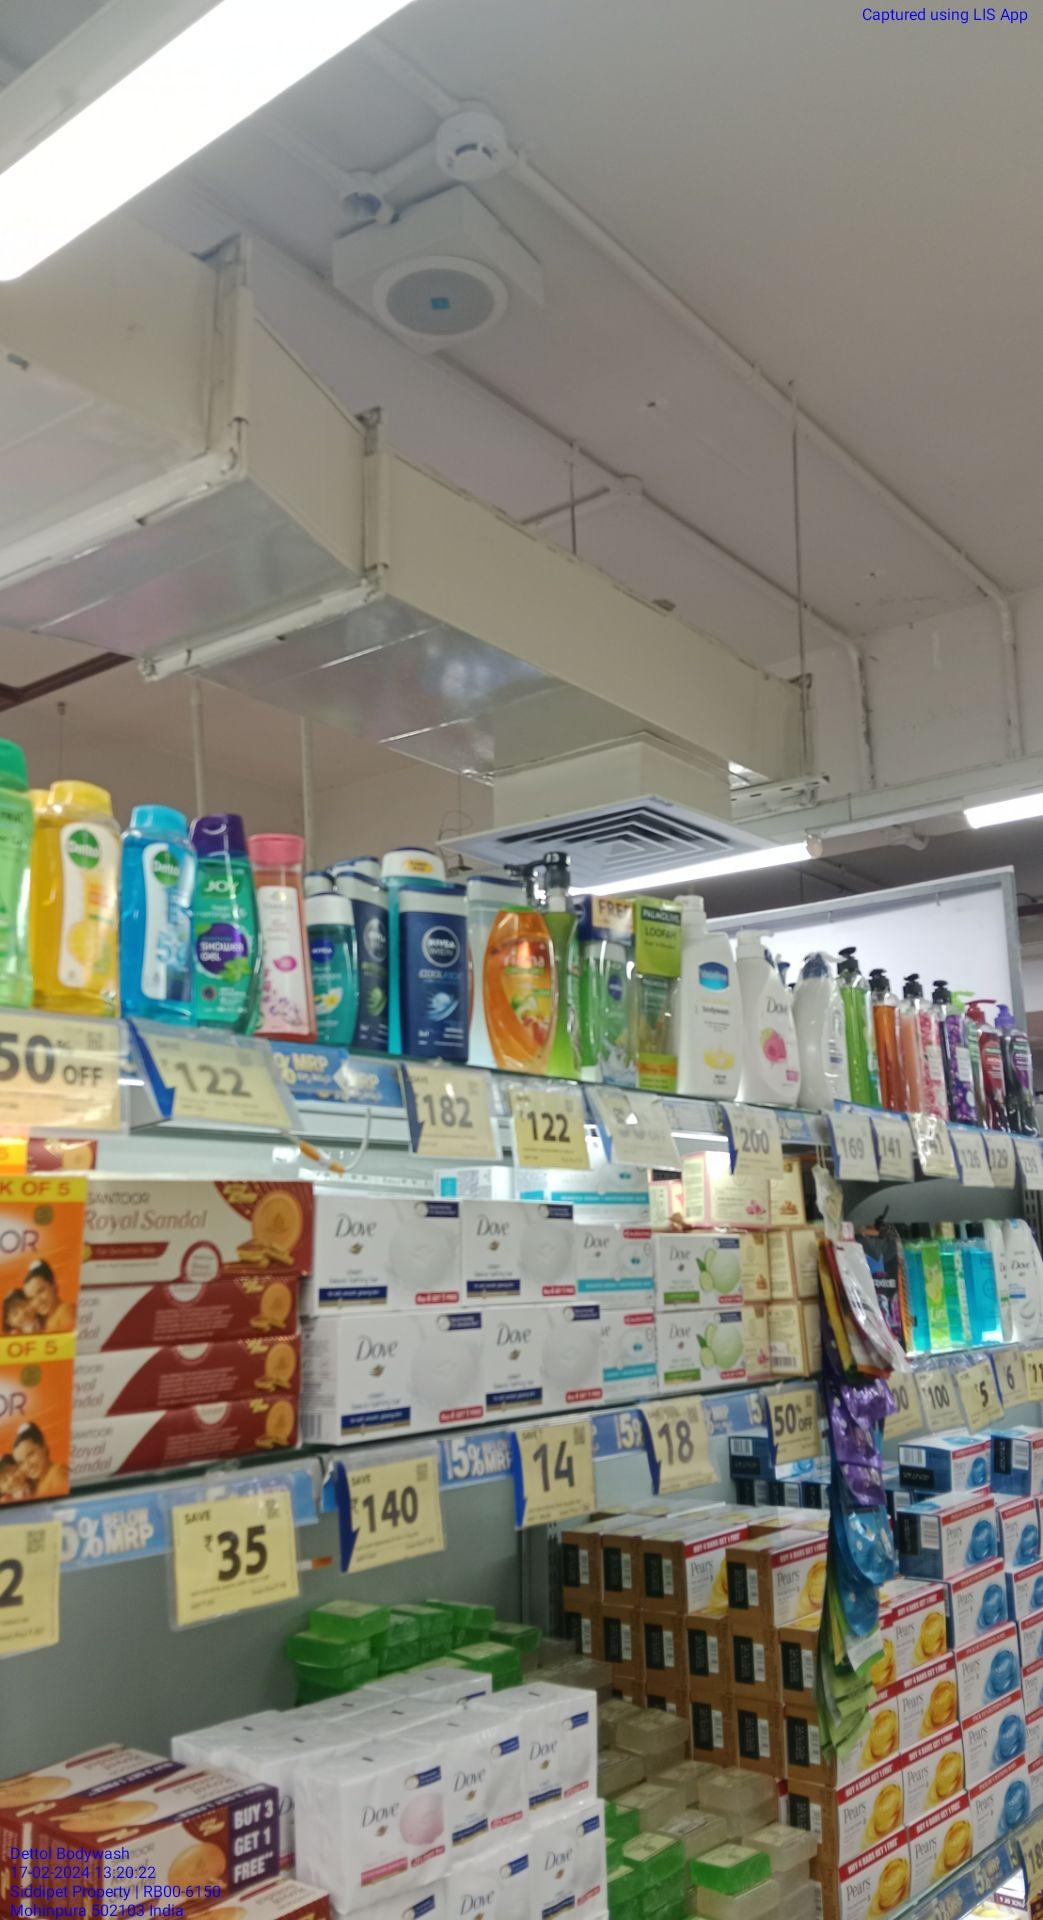Dettol_Bodywash_Cool: (123, 804, 194, 1012)
Dettol_Bodywash_Refresh: (35, 780, 118, 1016)
Fiama_Shower_Gel_Patchouli_and_Macadamia_250ML: (489, 912, 554, 1074)
Joy_Shower_Gel_Mint_and_Eucalyptus_250ML: (198, 810, 261, 1035)
